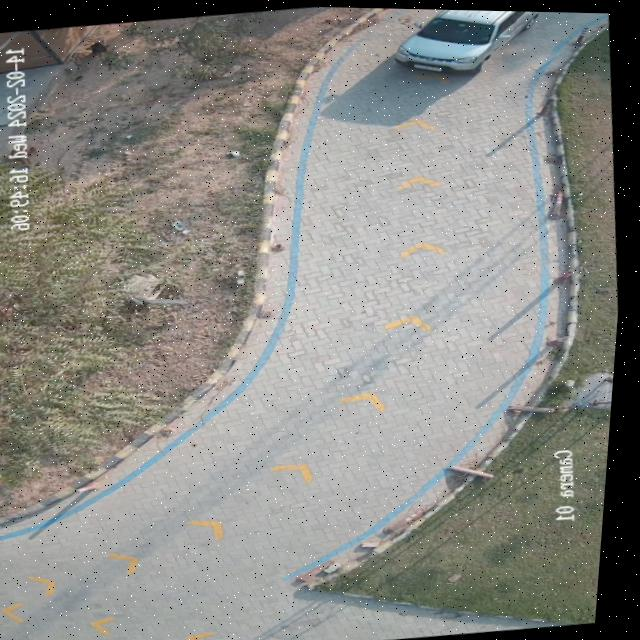car: (396, 8, 537, 69)
